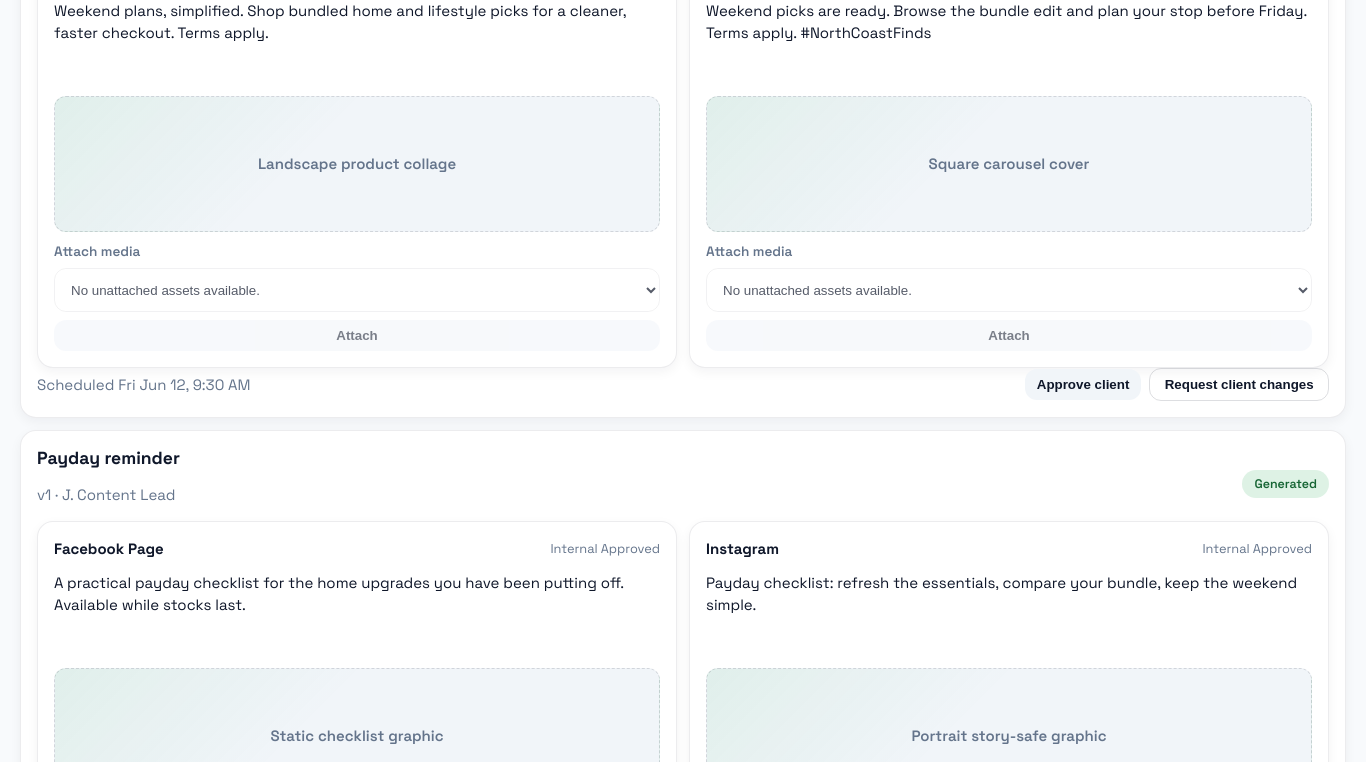
Scenario: ContentOpsPage › records client approval and marks the draft ready for scheduling
The width and height of the screenshot is (1366, 762).
(page scrolled)
Click the button "Approve client": [1083, 385] box [1025, 369, 1141, 400]
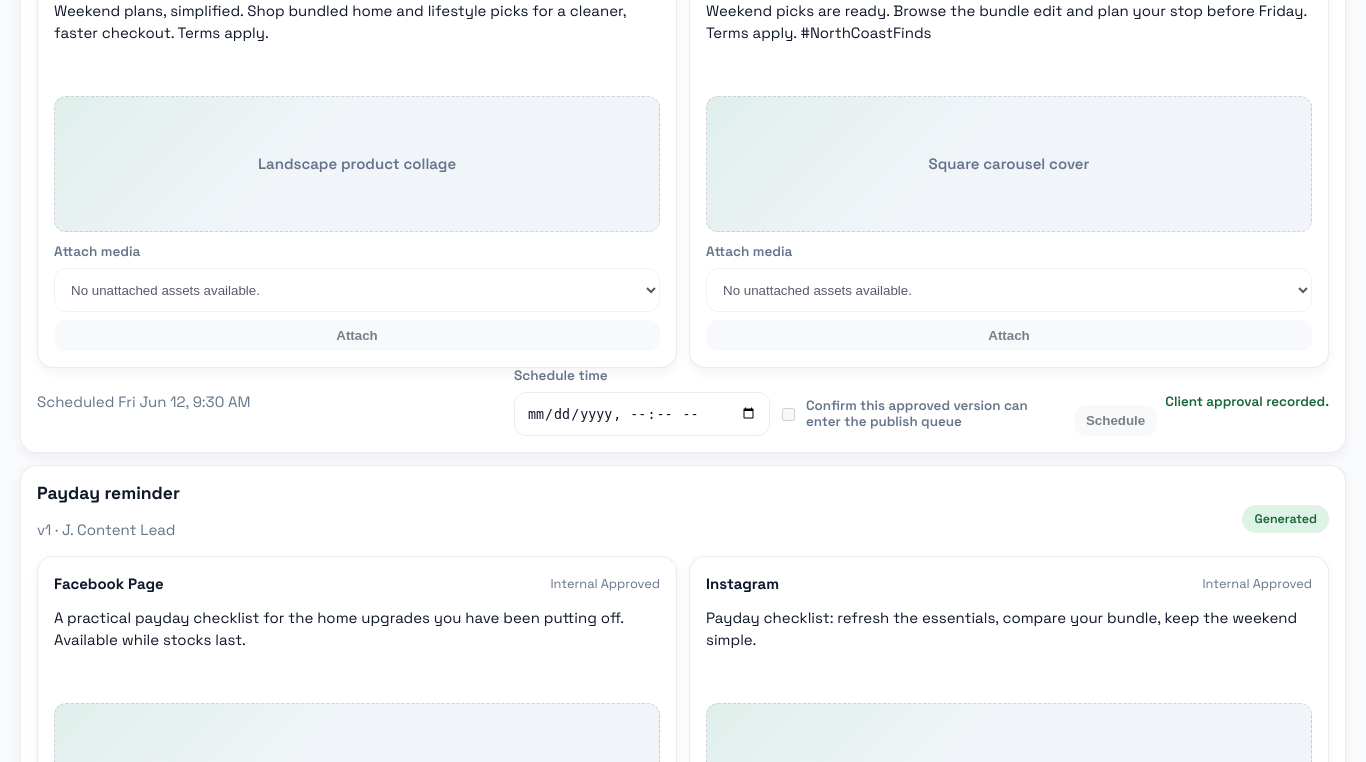
Result: the text "Client approval recorded." is shown at [1165, 391, 1329, 413]
Result: the field labelled "Schedule time" is shown at [514, 392, 770, 436]
Result: the checkbox labelled "Confirm this approved version can enter the publish queue" is disabled at [782, 408, 795, 421]
